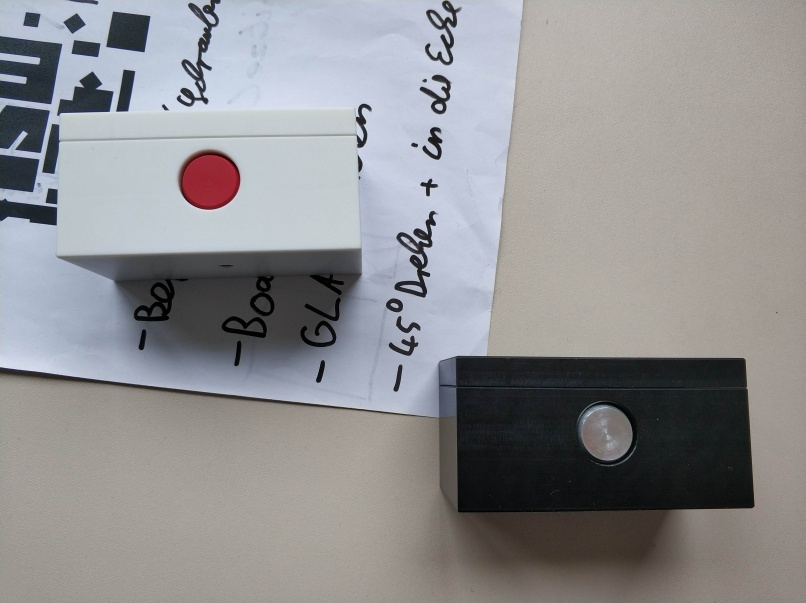black+black+silver: (435, 352, 756, 512)
white+white+red: (55, 104, 363, 284)
